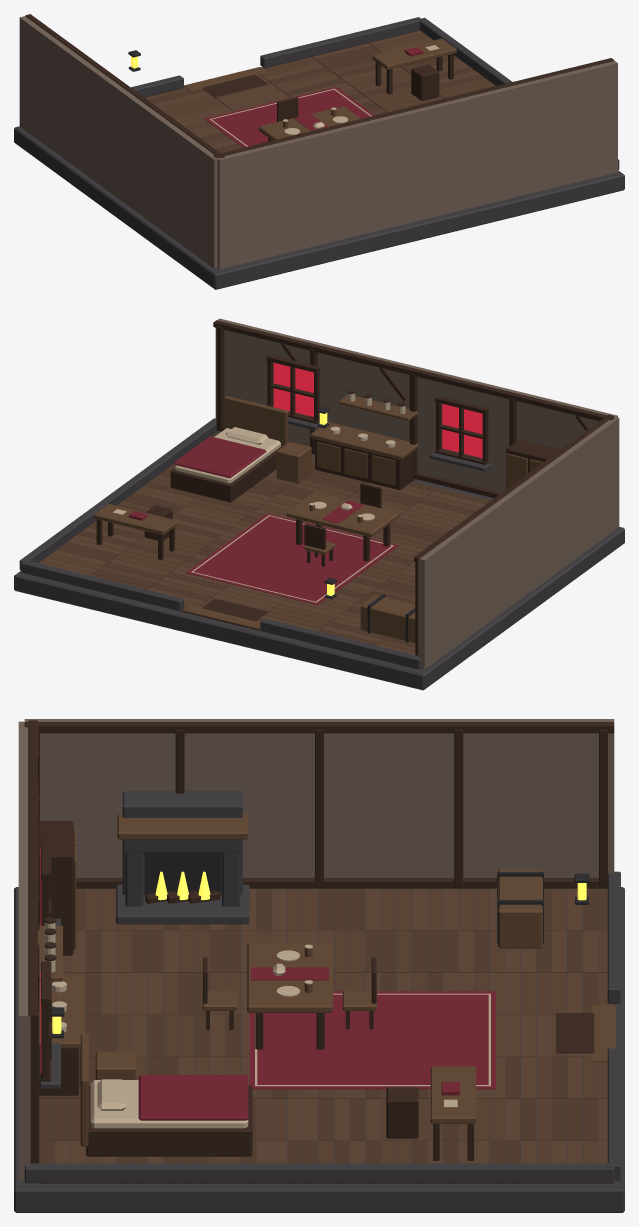
The model's file is HomeInterior.fbx.
3 views of the same model, one above another, from view 1: azimuth 30°, elevation 25°; view 2: azimuth 150°, elevation 25°; view 3: azimuth 270°, elevation 25° (orthographic). The views are drawn at different scales.
Parts seen in each view (by area): view 1: H1_Render_01, H1_Render_00, H1_Render_02, H1_Render_05, H1_Render_06, H1_Render_07, H1_Render_04, H1_Render_03, H1_Render_08; view 2: H1_Render_01, H1_Render_00, H1_Render_02, H1_Render_03, H1_Render_07, H1_Render_06, H1_Render_04, H1_Render_05, H1_Render_12, H1_Render_08, H1_Render_09; view 3: H1_Render_01, H1_Render_00, H1_Render_02, H1_Render_04, H1_Render_06, H1_Render_05, H1_Render_07, H1_Render_03, H1_Render_08, H1_Render_09, H1_Render_11.
Boxes of the visible parts, left/top/right/bottom form: H1_Render_01: left=19, top=16, right=617, bottom=269; H1_Render_00: left=14, top=17, right=624, bottom=289; H1_Render_02: left=25, top=14, right=614, bottom=158; H1_Render_05: left=145, top=33, right=494, bottom=144; H1_Render_06: left=154, top=30, right=479, bottom=152; H1_Render_07: left=204, top=47, right=423, bottom=147; H1_Render_04: left=148, top=45, right=495, bottom=152; H1_Render_03: left=184, top=38, right=456, bottom=140; H1_Render_08: left=209, top=45, right=439, bottom=146; H1_Render_01: left=215, top=318, right=619, bottom=669; H1_Render_00: left=14, top=417, right=624, bottom=690; H1_Render_02: left=96, top=320, right=614, bottom=655; H1_Render_03: left=93, top=395, right=542, bottom=643; H1_Render_07: left=128, top=436, right=398, bottom=605; H1_Render_06: left=38, top=469, right=485, bottom=654; H1_Render_04: left=57, top=433, right=490, bottom=669; H1_Render_05: left=47, top=474, right=480, bottom=651; H1_Render_12: left=273, top=363, right=482, bottom=458; H1_Render_08: left=113, top=393, right=405, bottom=602; H1_Render_09: left=317, top=406, right=415, bottom=642; H1_Render_01: left=18, top=719, right=614, bottom=1180; H1_Render_00: left=14, top=791, right=624, bottom=1212; H1_Render_02: left=24, top=720, right=614, bottom=1163; H1_Render_04: left=39, top=889, right=607, bottom=1183; H1_Render_06: left=54, top=889, right=613, bottom=1183; H1_Render_05: left=63, top=889, right=613, bottom=1183; H1_Render_07: left=138, top=967, right=496, bottom=1120; H1_Render_03: left=38, top=813, right=615, bottom=1146; H1_Render_08: left=45, top=922, right=490, bottom=1128; H1_Render_09: left=51, top=853, right=589, bottom=1038; H1_Render_11: left=52, top=871, right=586, bottom=1033.
Size of the model in its own units: 1340 by 401 by 1140.
